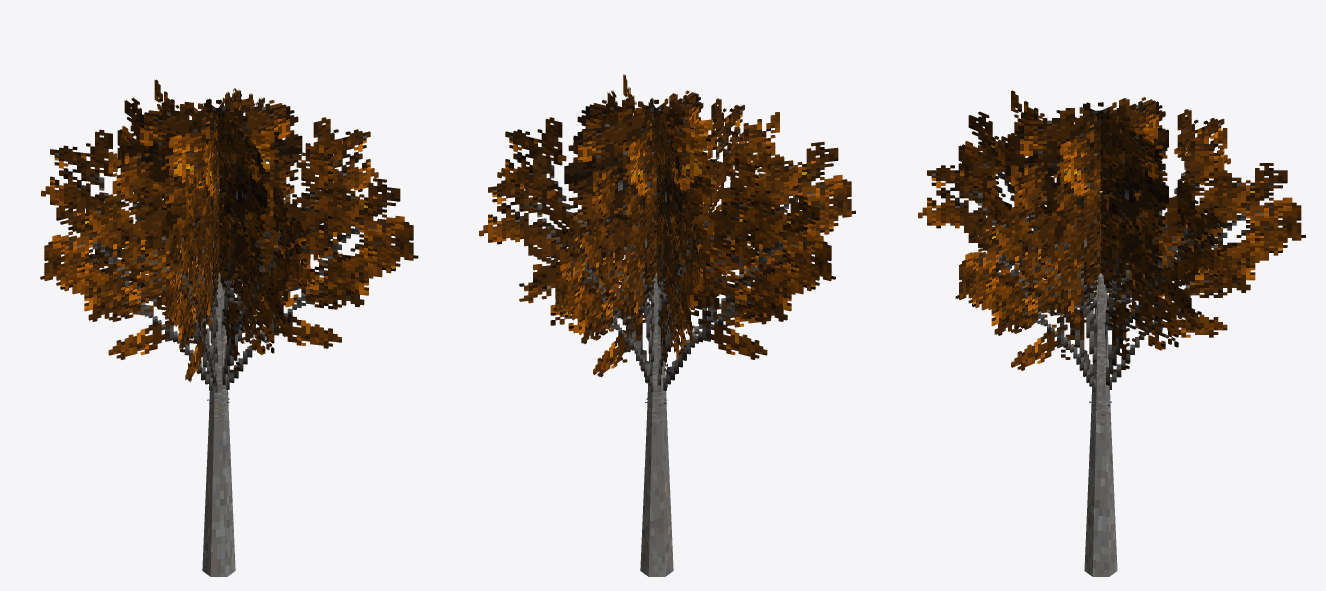
Rendered from tree36.glb.
3 renders of one model, left to right at view 1: azimuth 30°, elevation 25°; view 2: azimuth 150°, elevation 25°; view 3: azimuth 270°, elevation 25°, orthographic.
Visible parts, largest first — view 1: tree36; view 2: tree36; view 3: tree36.
Boxes of the visible parts, left/top/right/bottom form: tree36: left=40, top=79, right=418, bottom=576; tree36: left=479, top=74, right=855, bottom=576; tree36: left=918, top=90, right=1305, bottom=576.
Bounding box in the file's own units: 6.53 × 8 × 6.53.
Materials: 1 (1 with a texture image).
